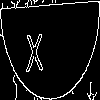X: (25, 24, 43, 72)
